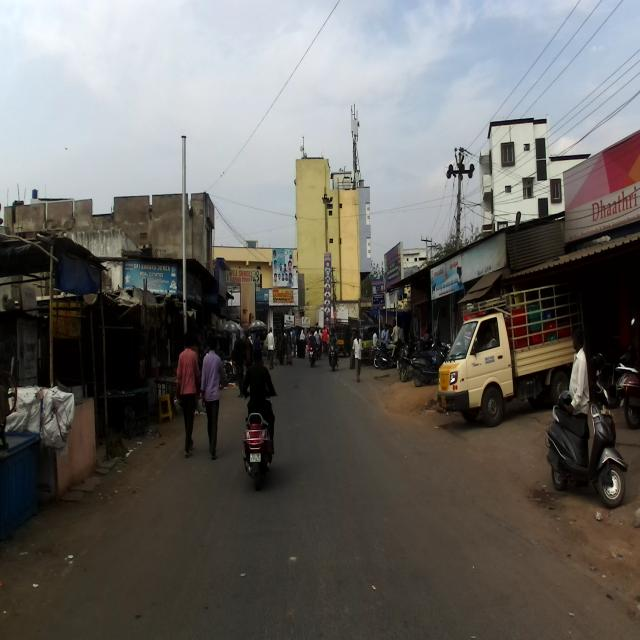motorcycle ahead at: (548, 381, 628, 513), (243, 396, 278, 477)
truck ahead at: (442, 295, 558, 427)
